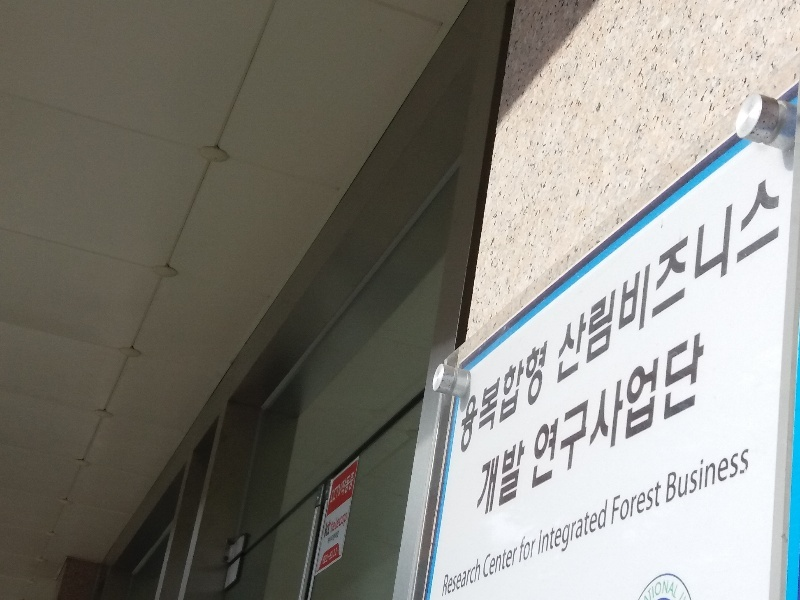text: (561, 162, 576, 393), (577, 162, 592, 393), (593, 162, 608, 393), (609, 162, 624, 393), (625, 162, 640, 393), (641, 162, 656, 393), (657, 162, 672, 393), (673, 162, 688, 393), (689, 162, 704, 393), (705, 162, 720, 393), (721, 162, 736, 393), (737, 162, 752, 393), (753, 162, 768, 393), (769, 162, 783, 393), (545, 319, 560, 501), (561, 319, 576, 501), (577, 319, 592, 501), (593, 319, 608, 501), (609, 319, 624, 501), (625, 319, 640, 501), (641, 319, 656, 501), (657, 319, 672, 501), (673, 319, 688, 501), (689, 319, 704, 501), (532, 319, 544, 501), (465, 333, 480, 465), (481, 333, 496, 465), (497, 333, 512, 465), (513, 333, 528, 465), (529, 333, 544, 465), (481, 432, 496, 528), (497, 432, 512, 528), (513, 432, 528, 528), (555, 162, 560, 393), (593, 497, 609, 564), (545, 497, 560, 564), (561, 497, 576, 564), (577, 497, 592, 564), (673, 443, 688, 507), (689, 443, 704, 507), (705, 443, 720, 507), (721, 443, 736, 507), (737, 443, 752, 507), (625, 476, 640, 530), (641, 476, 656, 530), (458, 333, 464, 465), (705, 319, 709, 501), (611, 476, 624, 530), (473, 432, 480, 528), (545, 333, 550, 465), (449, 557, 464, 599), (465, 557, 480, 599), (497, 543, 512, 581), (664, 443, 672, 507), (483, 543, 496, 581), (538, 497, 544, 564), (657, 476, 664, 530), (342, 469, 352, 501), (519, 531, 528, 566), (529, 531, 538, 566), (323, 545, 336, 569), (337, 510, 349, 534), (657, 581, 672, 600), (325, 516, 336, 540), (645, 581, 656, 600), (513, 543, 518, 581), (326, 529, 336, 547), (444, 557, 448, 599), (337, 481, 343, 506), (673, 581, 680, 600), (353, 469, 357, 501), (331, 481, 336, 506), (529, 432, 530, 528), (332, 510, 336, 534), (337, 529, 341, 547), (337, 545, 339, 569), (481, 557, 482, 599)
